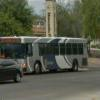Bus: (4, 27, 90, 71)
